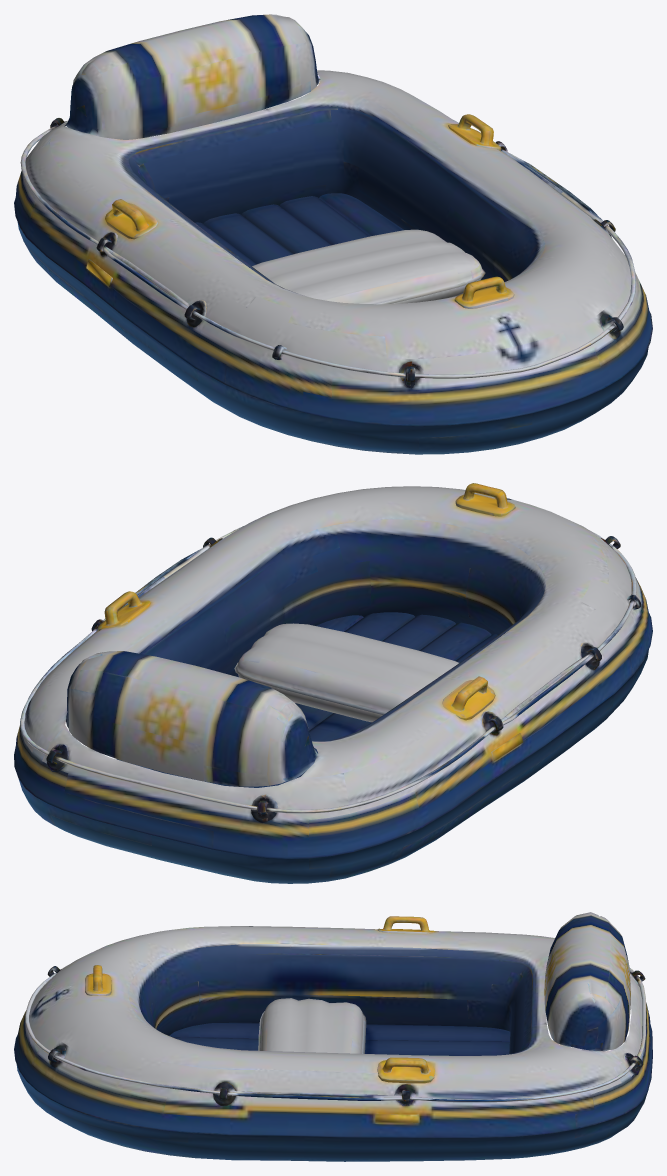
File: inflatable.glb
The picture shows the model from 3 angles, top to bottom: view 1: azimuth 30°, elevation 25°; view 2: azimuth 150°, elevation 25°; view 3: azimuth 270°, elevation 25°; orthographic projection. The views are drawn at different scales.
Parts seen in each view (by area): view 1: a9505dde-f589-4433-9dd1-d55fd277c6f6; view 2: a9505dde-f589-4433-9dd1-d55fd277c6f6; view 3: a9505dde-f589-4433-9dd1-d55fd277c6f6.
Boxes of the visible parts, <box> form: a9505dde-f589-4433-9dd1-d55fd277c6f6: <box>14,14,652,454</box>; a9505dde-f589-4433-9dd1-d55fd277c6f6: <box>14,483,652,883</box>; a9505dde-f589-4433-9dd1-d55fd277c6f6: <box>14,912,652,1161</box>.
Size of the model in its own units: 0.6382 by 0.2524 by 0.9995.
1 material, 1 textured.
